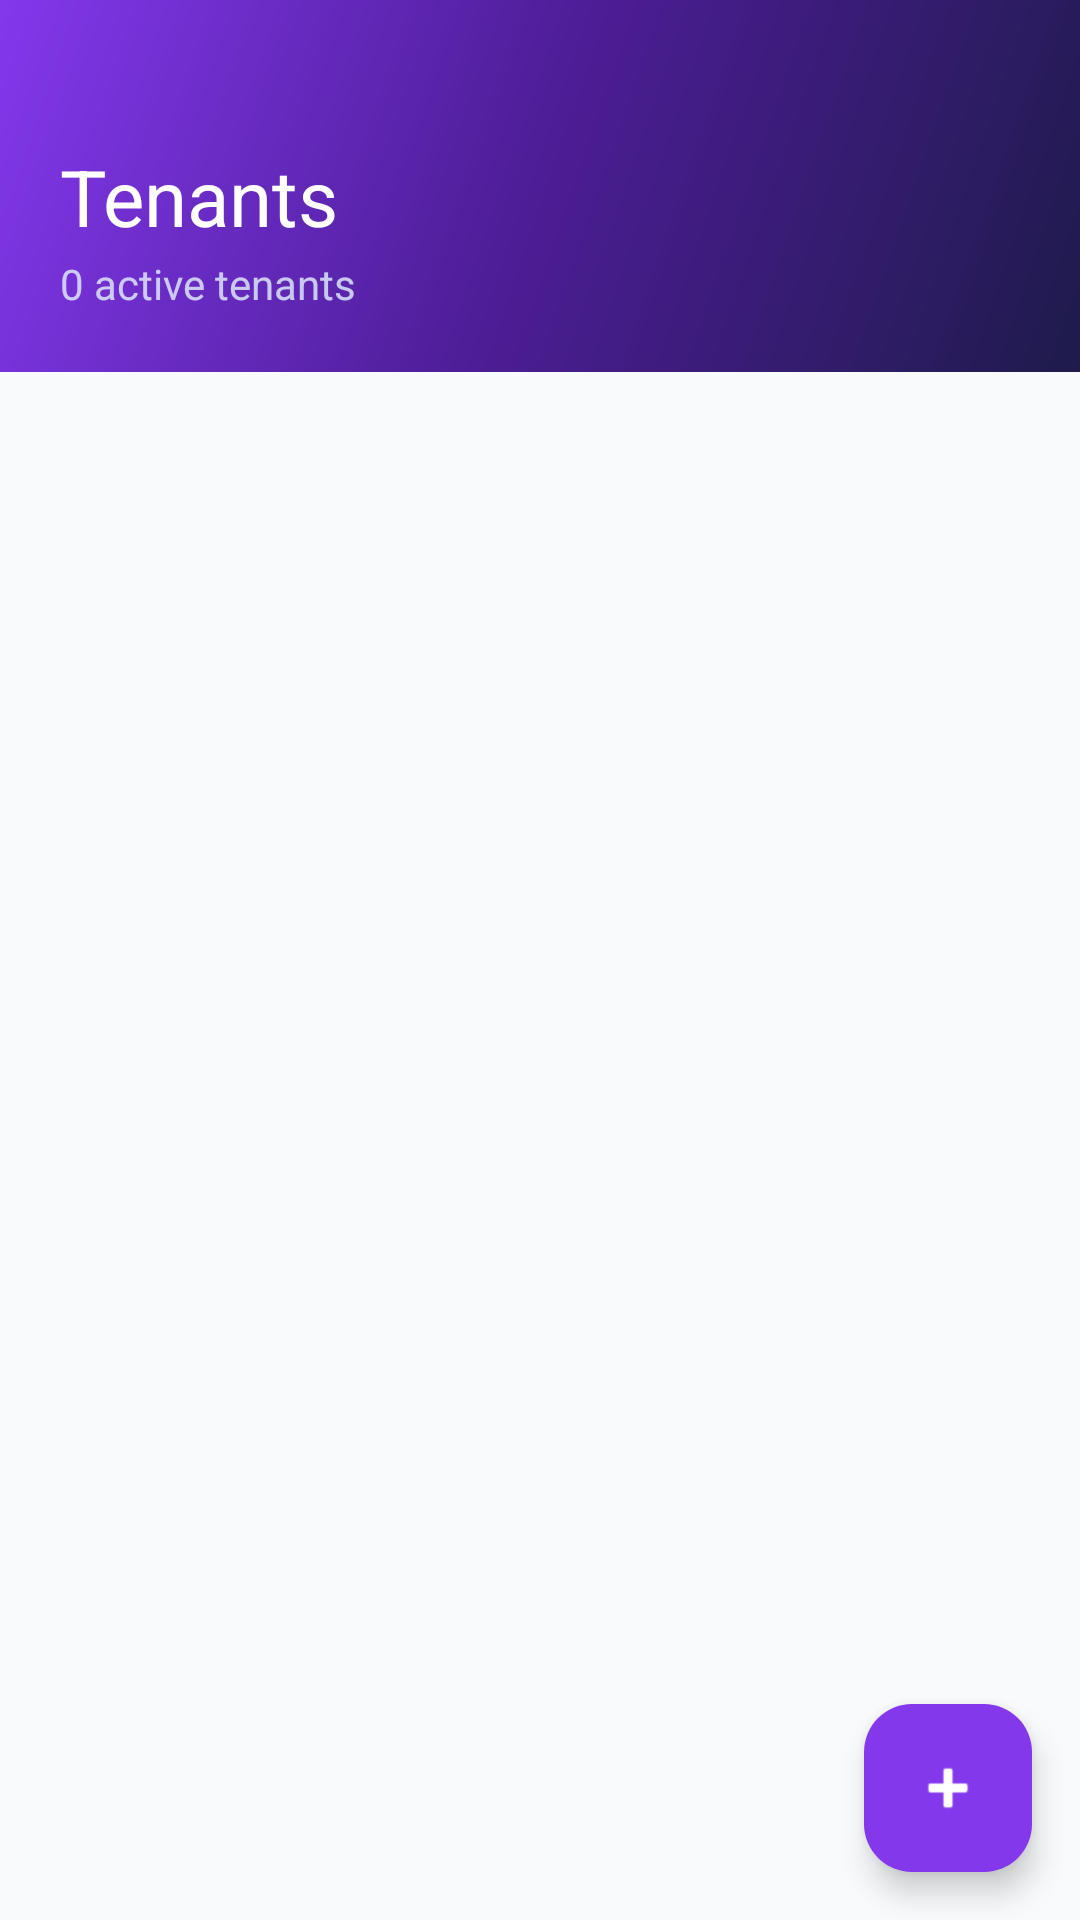

Named icons in this screenshot (1080x1920) and their centers, point (x, y):
Add Tenant: point (948, 1788)
